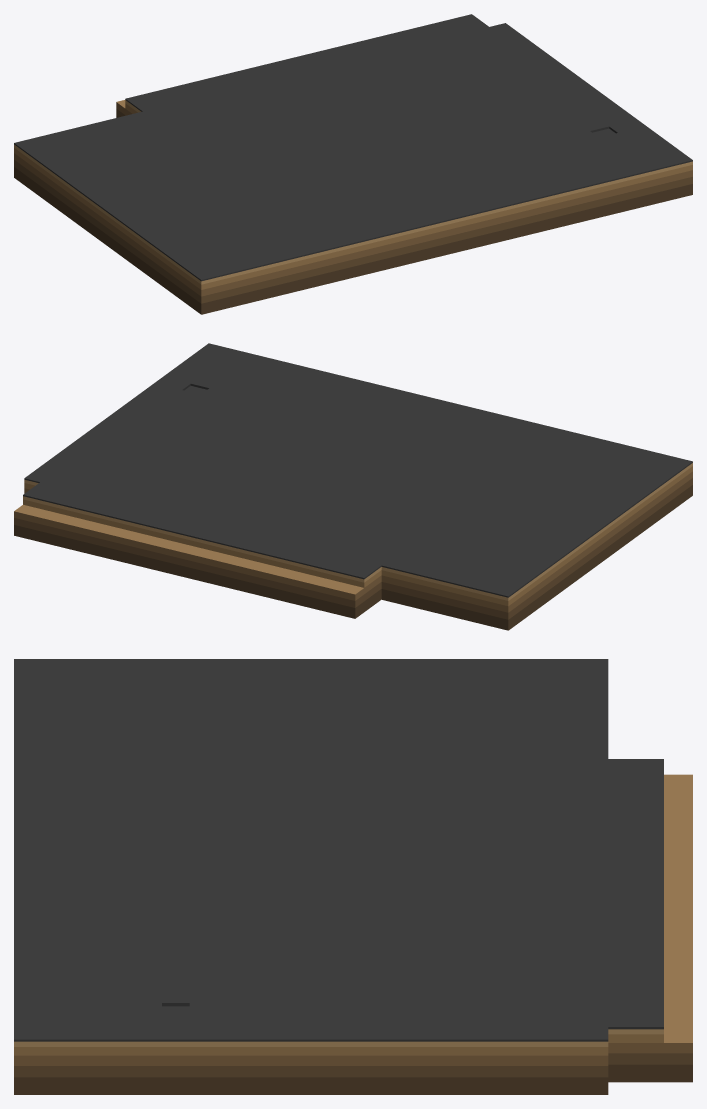
The model's file is GroundTile_1.fbx.
3 renders of one model, top to bottom at view 1: azimuth 30°, elevation 25°; view 2: azimuth 150°, elevation 25°; view 3: azimuth 270°, elevation 25°, orthographic. The views are drawn at different scales.
Visible parts, largest first — view 1: GroundTile_1; view 2: GroundTile_1; view 3: GroundTile_1.
Part boxes in pixels (bbox=[...]): GroundTile_1: bbox=[14, 14, 692, 314]; GroundTile_1: bbox=[14, 343, 692, 630]; GroundTile_1: bbox=[14, 659, 692, 1094].
Size of the model in its own units: 29365 by 1984 by 22143.
